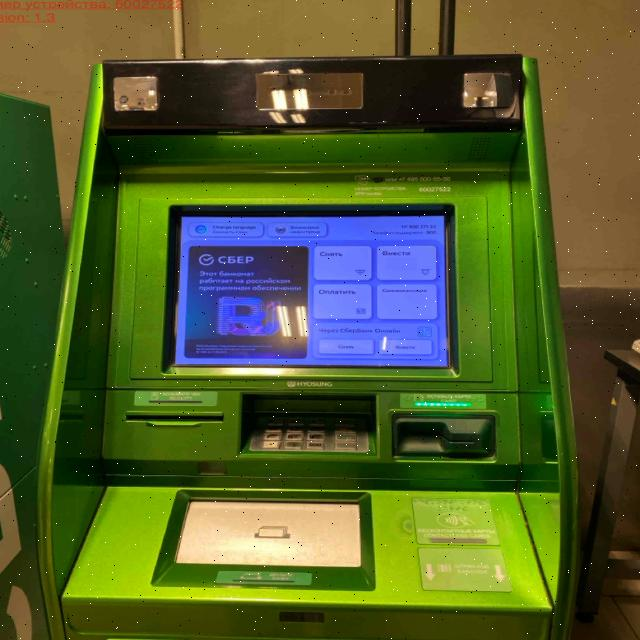bank: (36, 58, 582, 640)
